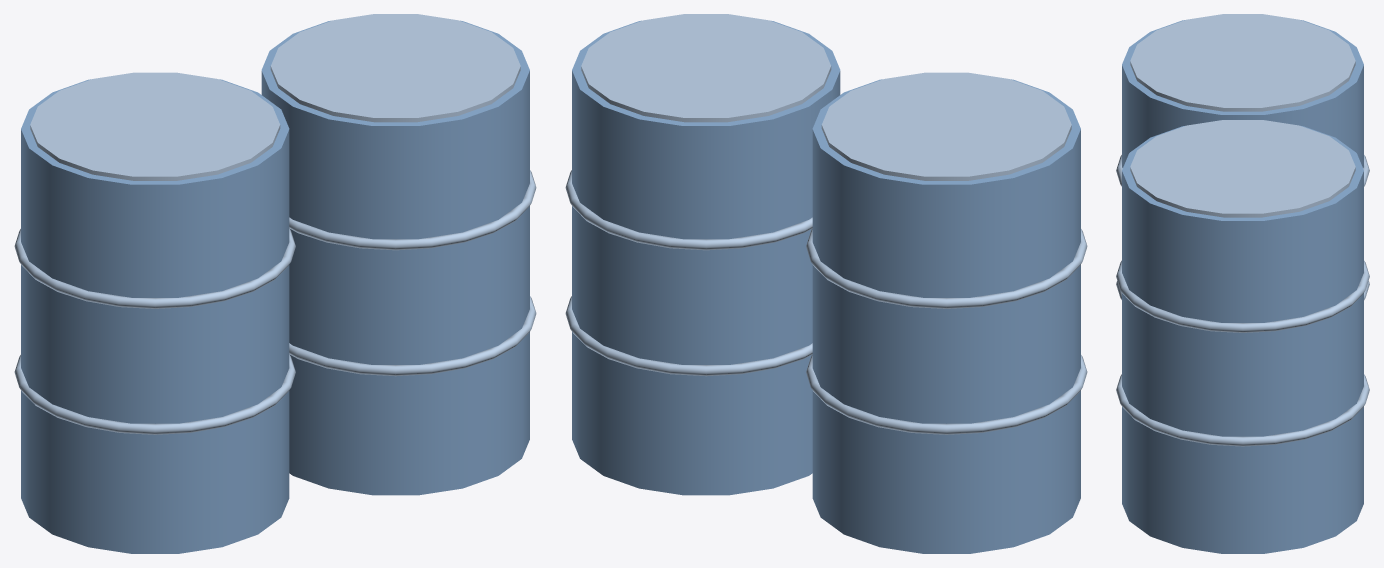
Rendered from prop.barrel-pair.glb.
3 renders of one model, left to right at view 1: azimuth 30°, elevation 25°; view 2: azimuth 150°, elevation 25°; view 3: azimuth 270°, elevation 25°, orthographic. The views are drawn at different scales.
Visible parts, largest first — view 1: prop.barrel-pair; view 2: prop.barrel-pair; view 3: prop.barrel-pair.
Part boxes in pixels (<box>): prop.barrel-pair: <box>14,14,536,553</box>; prop.barrel-pair: <box>565,14,1087,553</box>; prop.barrel-pair: <box>1116,14,1369,553</box>.
Bounding box in the file's own units: 1.21 × 0.89 × 0.608.
